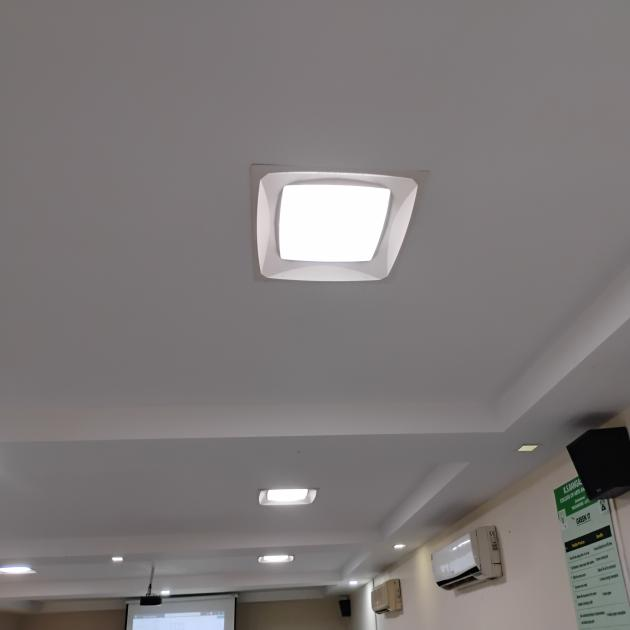air conditioner: (418, 524, 516, 602), (365, 577, 410, 622)
light: (243, 152, 438, 323), (254, 470, 356, 554)
speaker: (562, 414, 630, 526)
